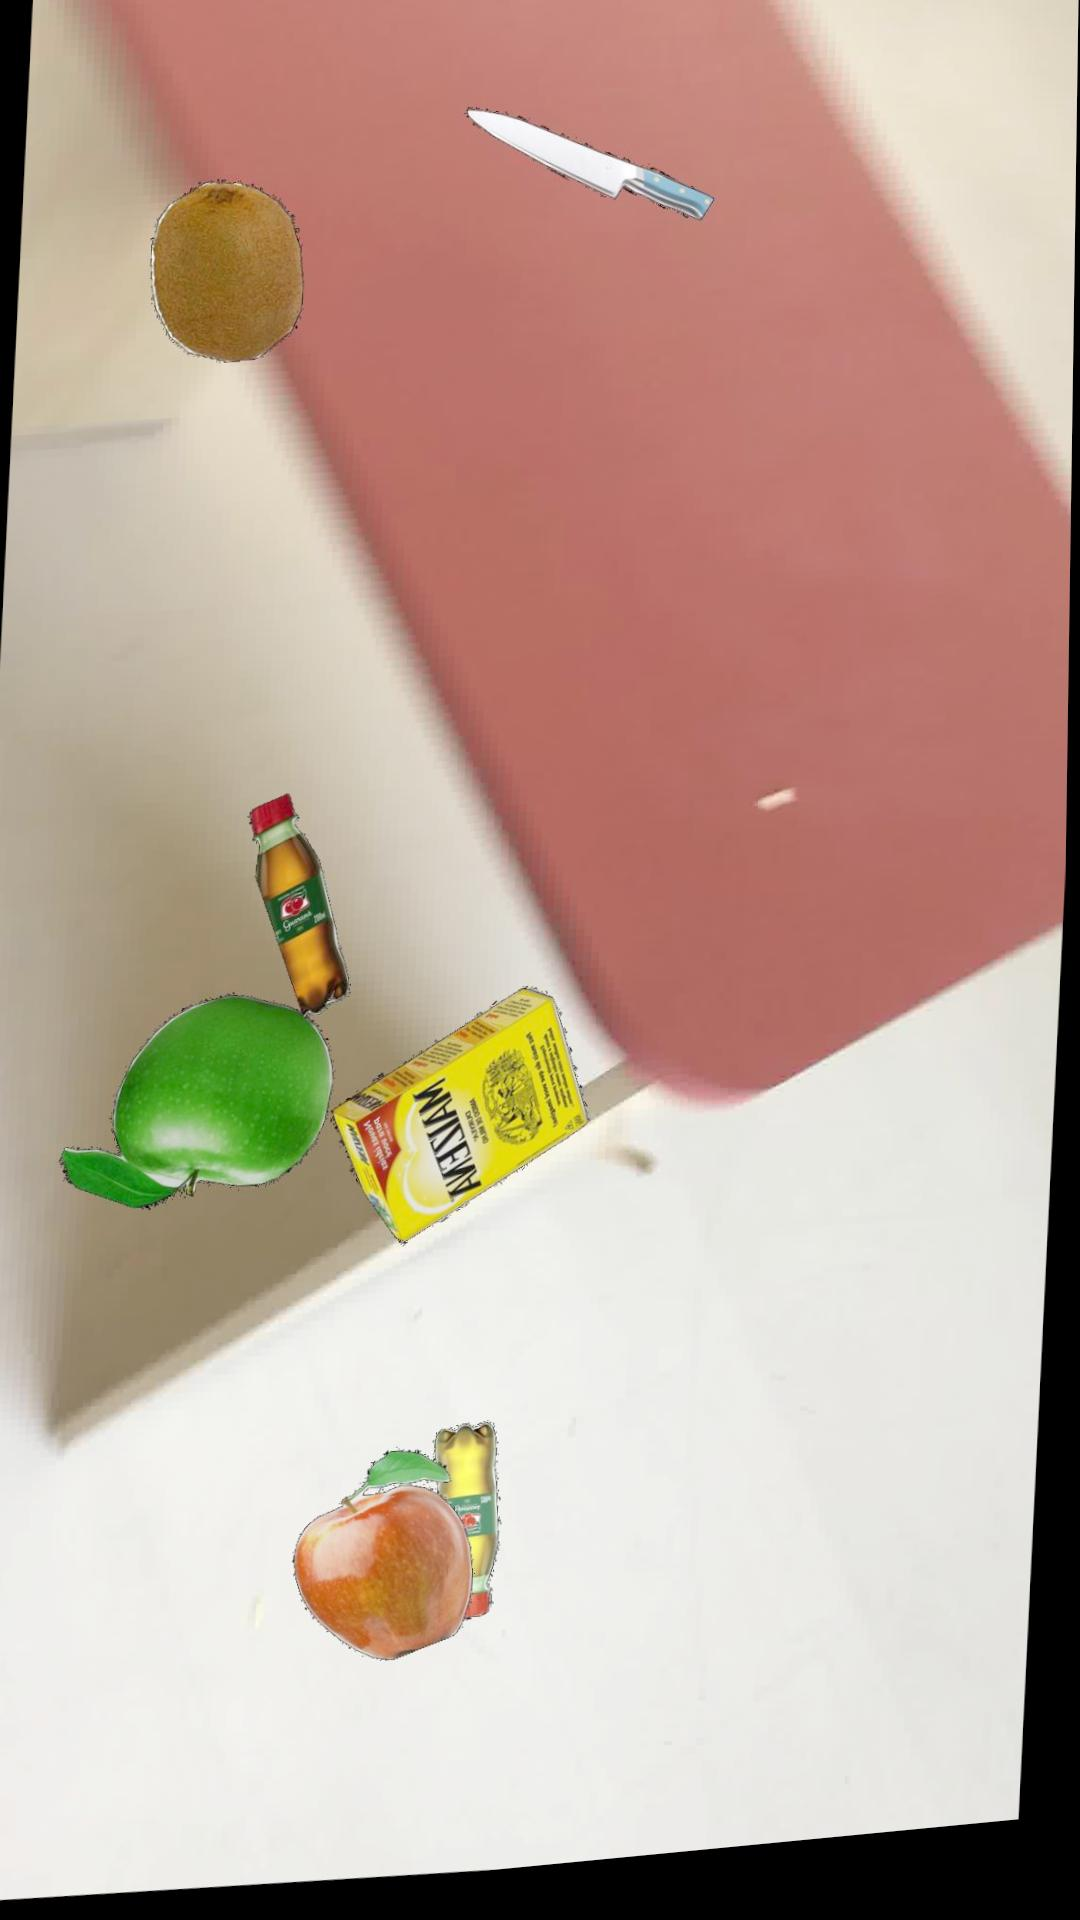apple: (295, 1457, 477, 1667)
green apple: (62, 998, 335, 1212)
guarana: (251, 798, 351, 1023), (438, 1431, 504, 1629)
kiwi: (150, 185, 303, 367)
knife: (465, 117, 713, 233)
